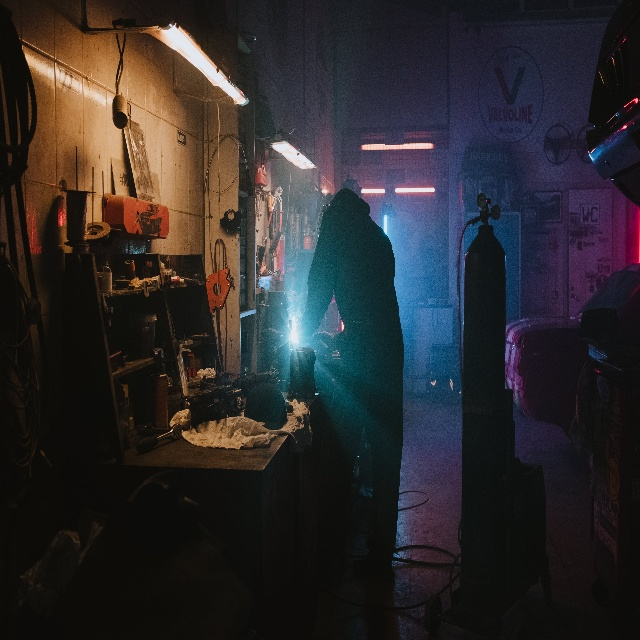Guantes: (312, 331, 336, 352), (295, 320, 306, 342)
